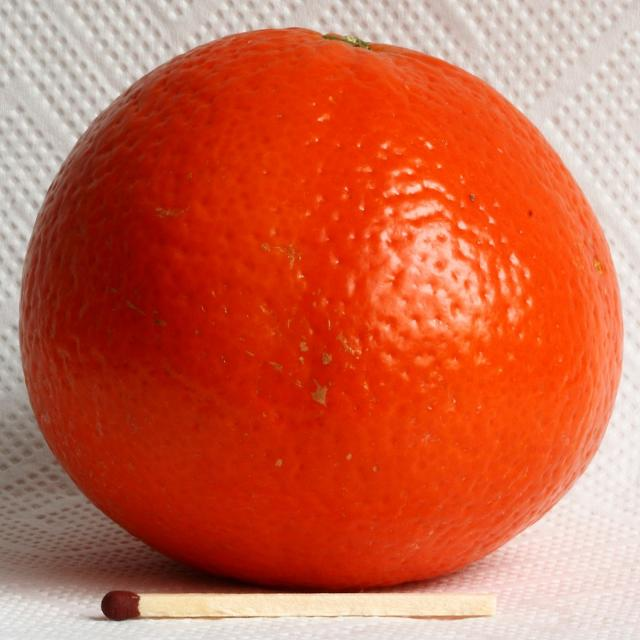Orange: (20, 25, 624, 593)
